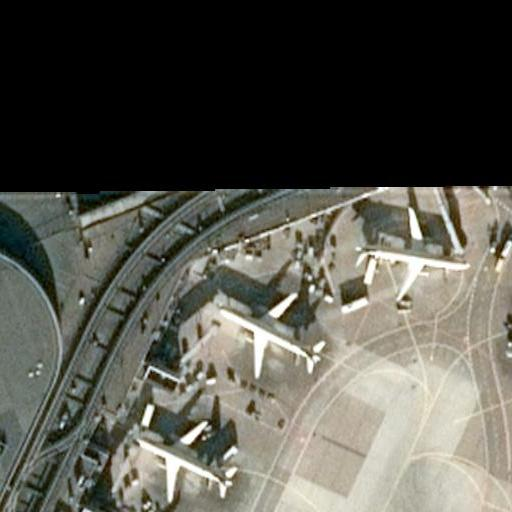Aircraft: (344, 198, 470, 298), (204, 283, 322, 382), (124, 411, 233, 500), (501, 300, 512, 393)
